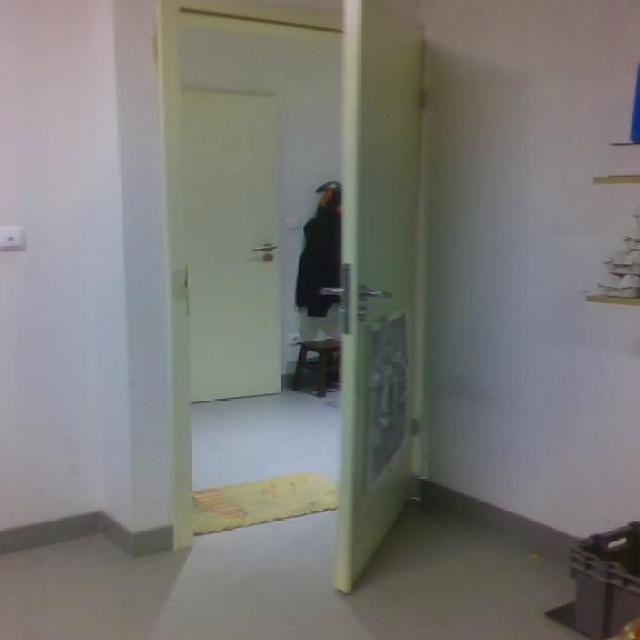door: (329, 0, 428, 593), (181, 88, 283, 402)
